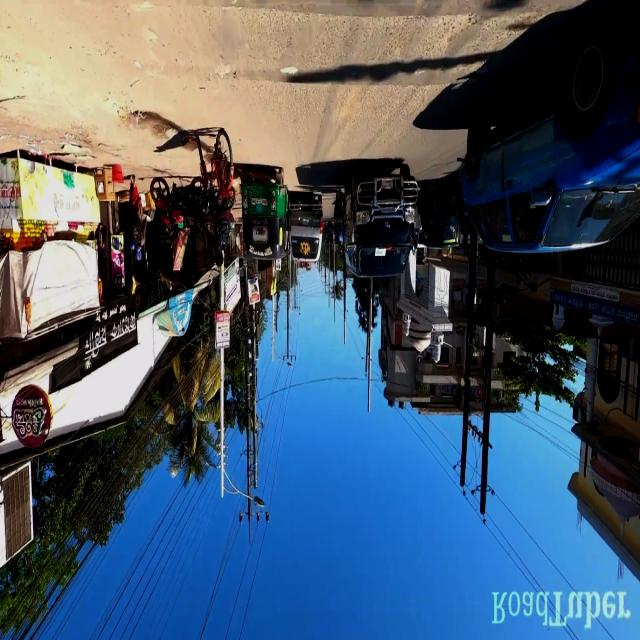black: (344, 165, 419, 275)
blue: (456, 36, 640, 265)
silver: (284, 192, 324, 266)
